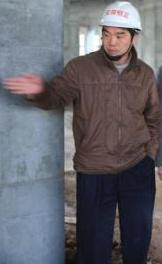hard-hat: (98, 0, 142, 31)
ppe-suit: (1, 0, 1, 1)
